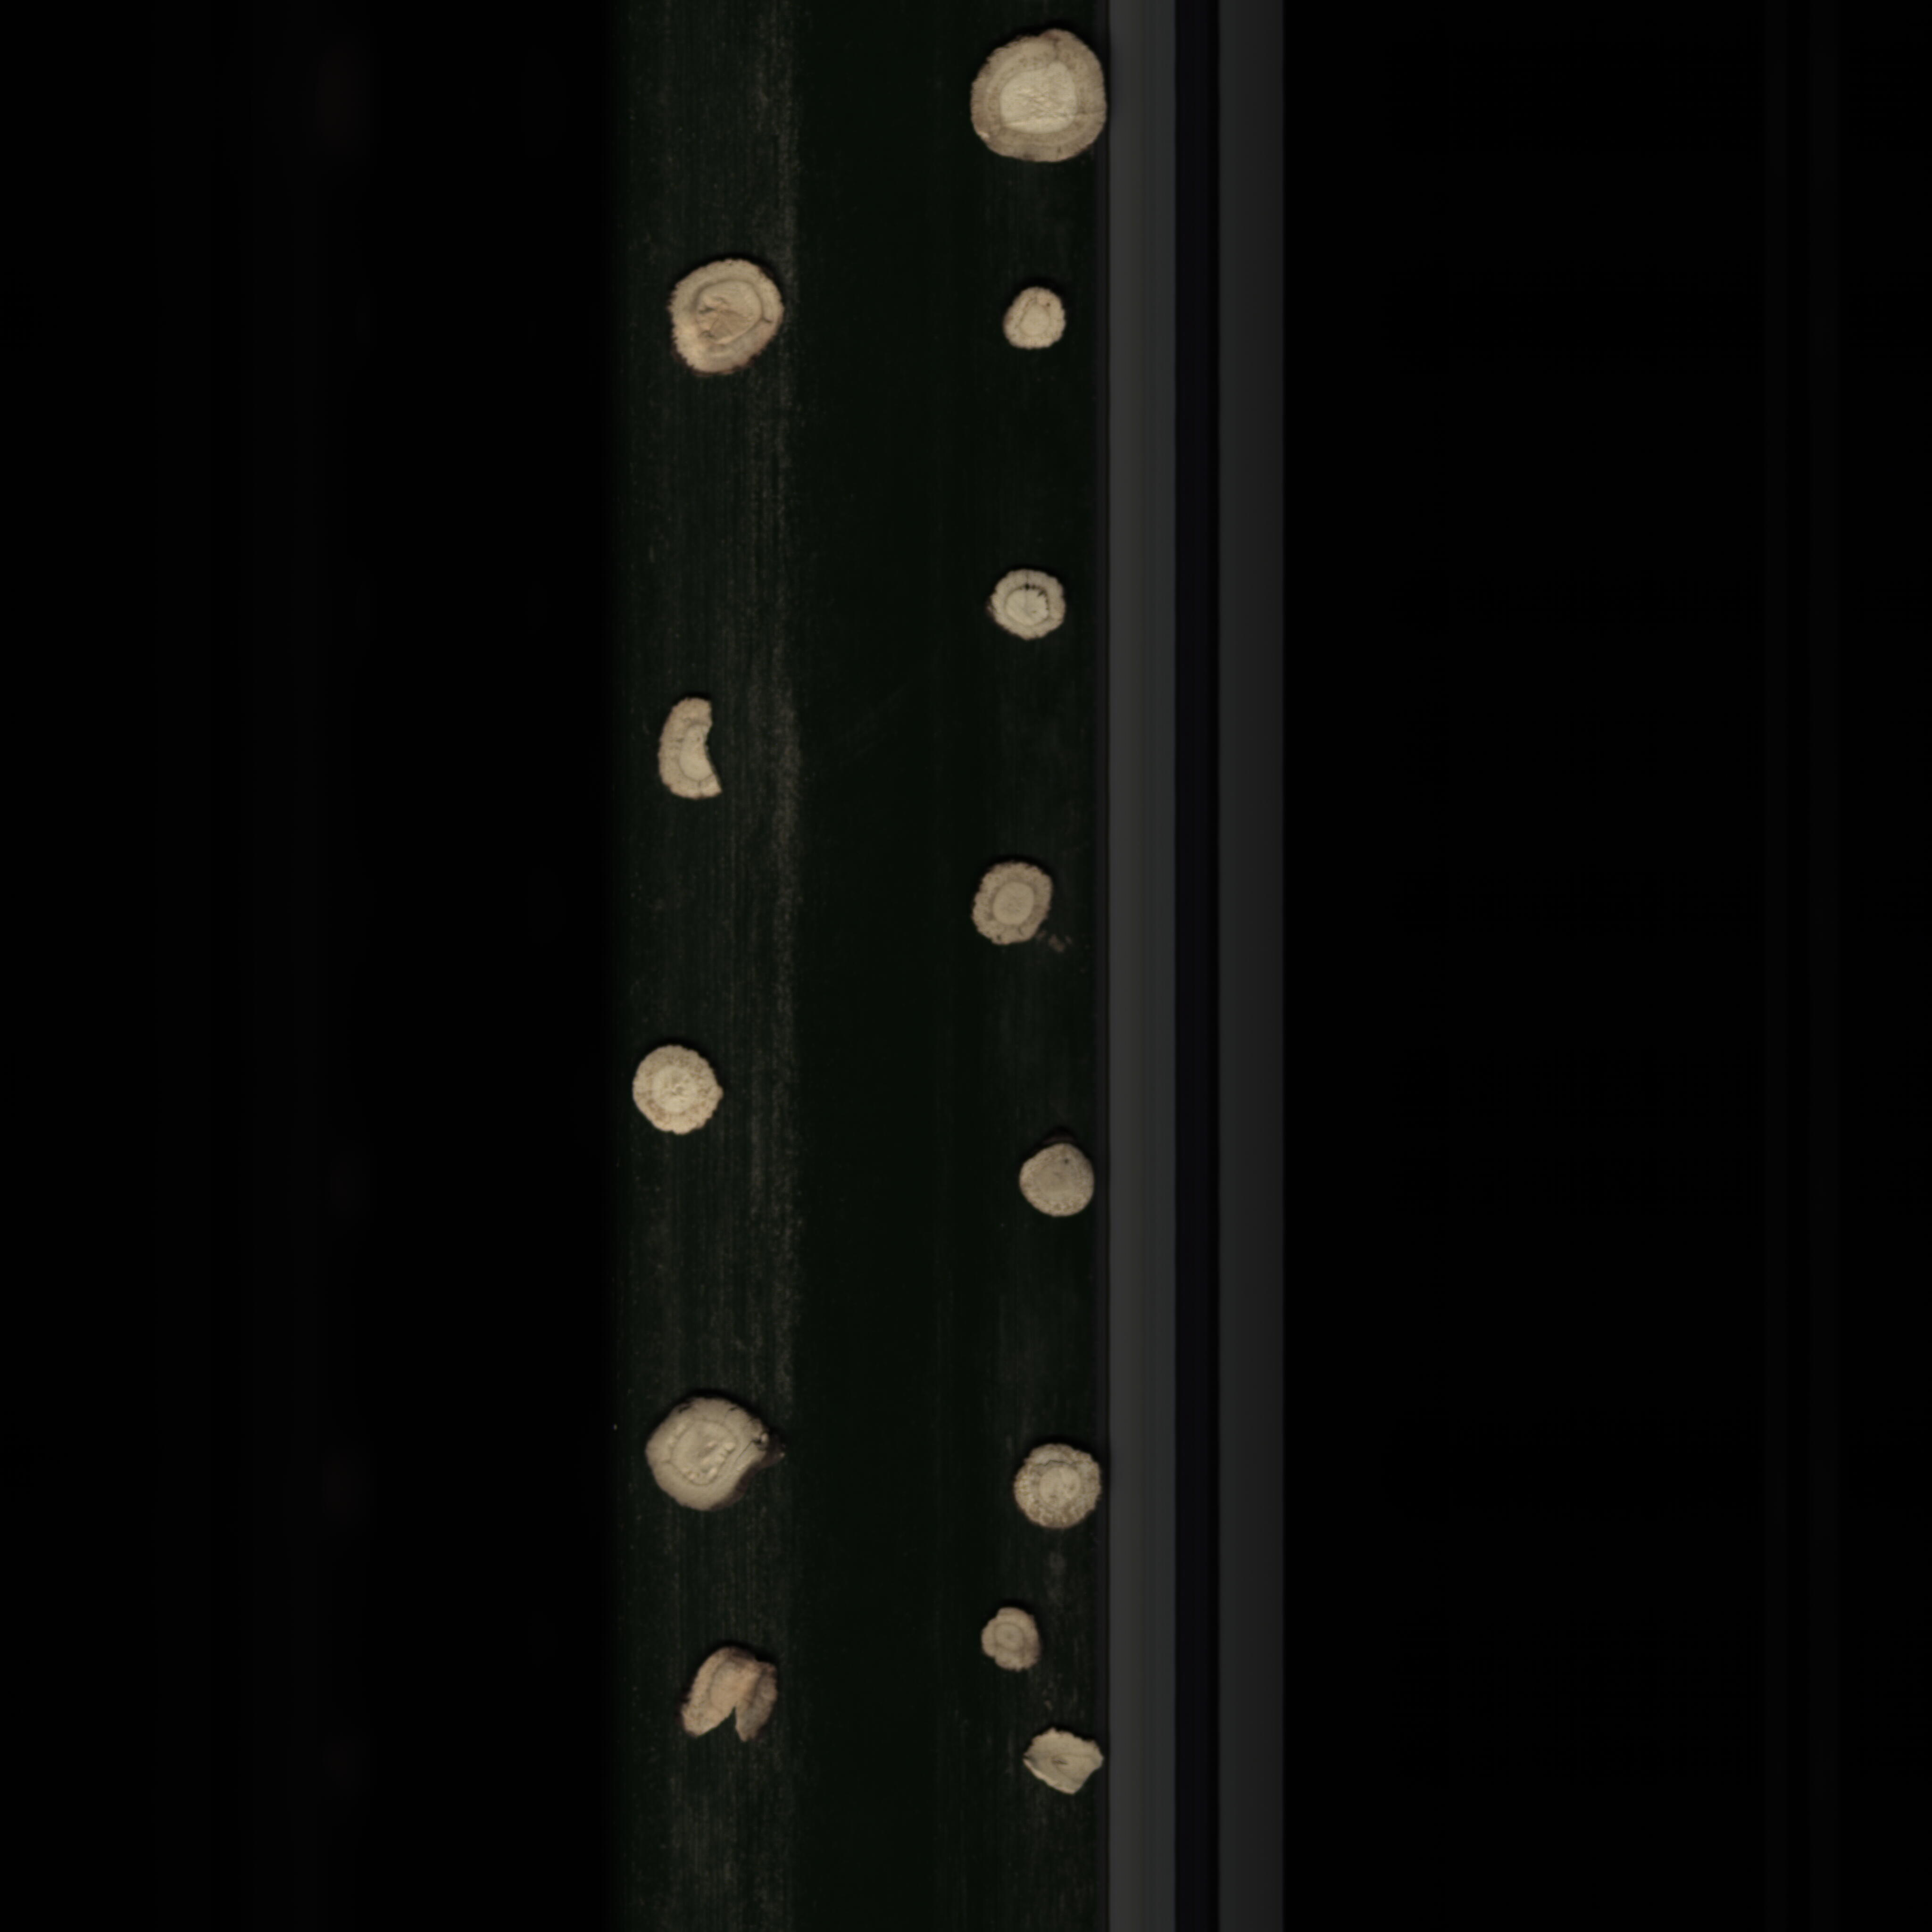debris: (672, 1622, 786, 1752), (646, 695, 747, 816), (1019, 1716, 1113, 1803)
moldy: (964, 34, 1111, 163)
